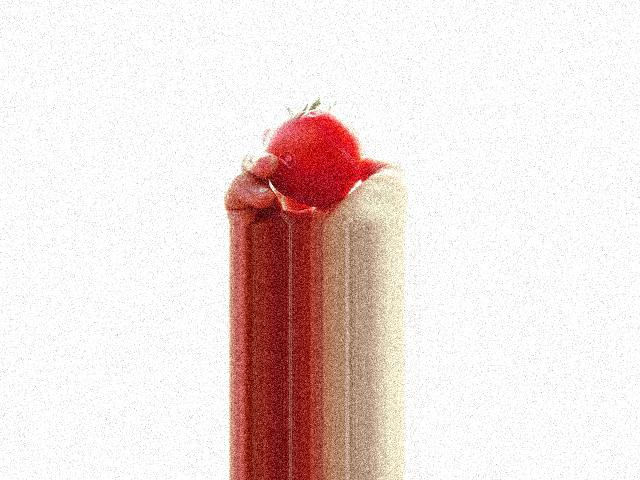tomato: (262, 108, 363, 206)
